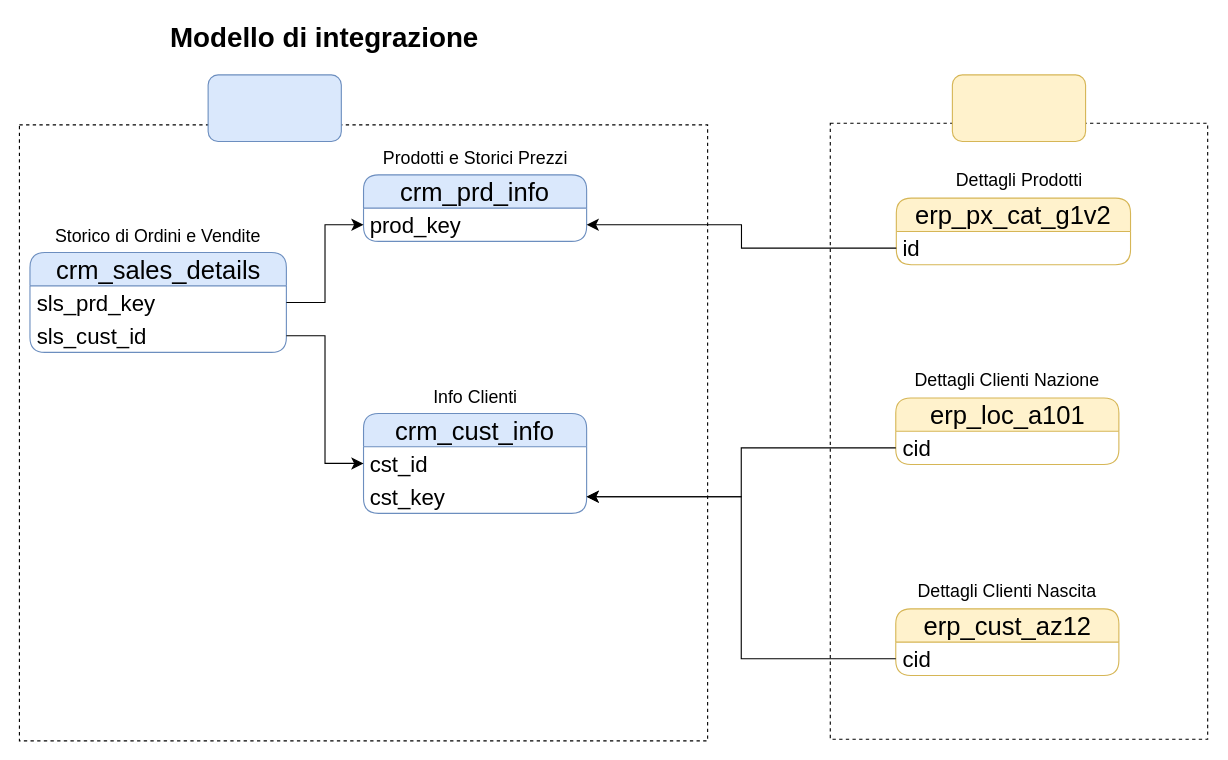
The diagram is 1228 pixels wide and 760 high, and some of its shapes have lost their labels. The centre of each missing label's shape, as x and y in pixels:
"CRM" goes at (274,108).
"ERP" goes at (1018,108).
